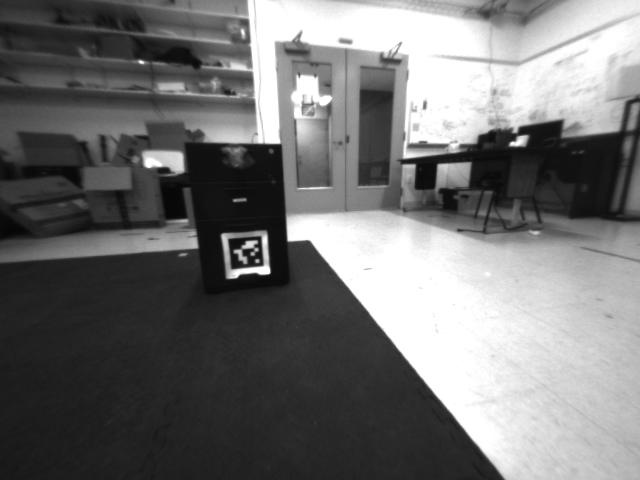door_handle: (329, 137, 343, 152)
drawer: (214, 142, 254, 176)
